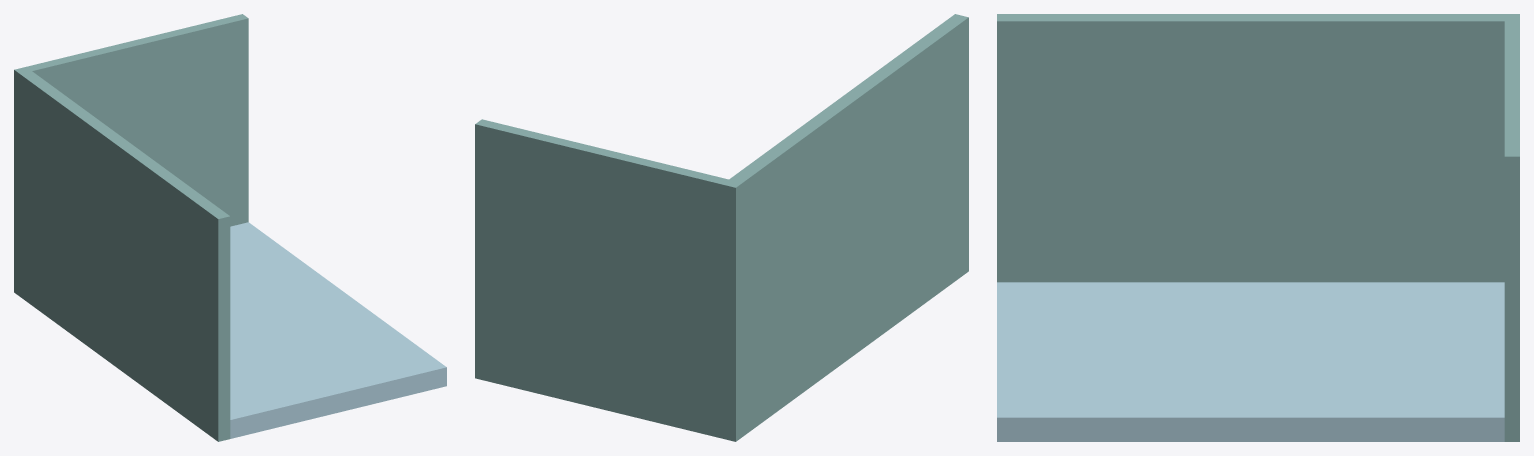
File: Sala 2.fbx
3 renders of one model, left to right at view 1: azimuth 30°, elevation 25°; view 2: azimuth 150°, elevation 25°; view 3: azimuth 270°, elevation 25°, orthographic. The views are drawn at different scales.
Visible parts, largest first — view 1: paredes.001; view 2: paredes.001; view 3: paredes.001.
Boxes of the visible parts, x1,y1,x2,y2 form: paredes.001: (14,14,446,441); paredes.001: (475,14,968,441); paredes.001: (997,14,1519,441).
Size of the model in its own units: 680 by 634 by 1053.
